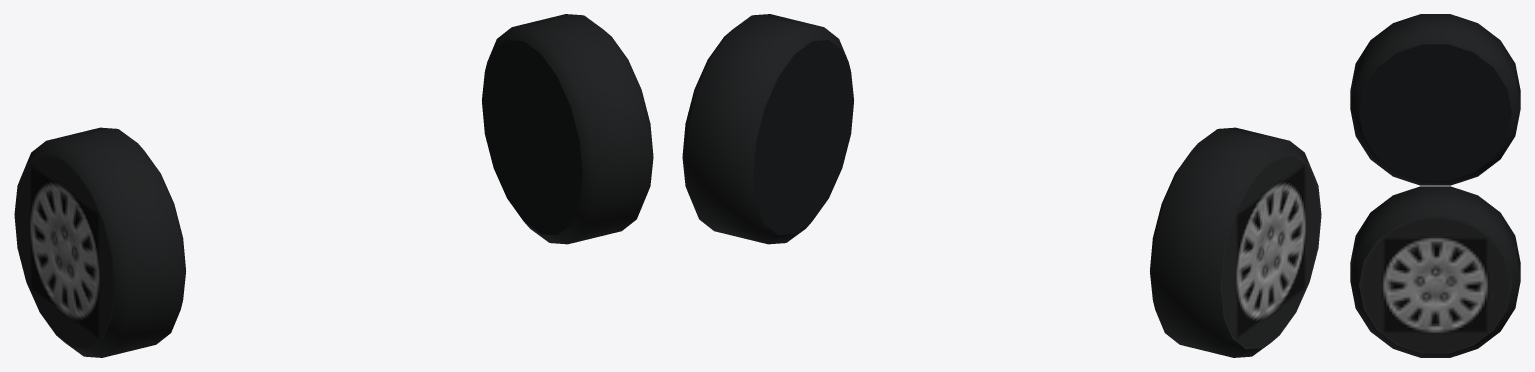
File: fullsize_police_wheels_f.obj
3 views of the same model, side by side, from view 1: azimuth 30°, elevation 25°; view 2: azimuth 150°, elevation 25°; view 3: azimuth 270°, elevation 25° (orthographic). The views are drawn at different scales.
Visible parts, largest first — view 1: fullsize_police_wheels_f; view 2: fullsize_police_wheels_f; view 3: fullsize_police_wheels_f.
Part boxes in pixels (left/top/right/bottom): fullsize_police_wheels_f: left=14, top=14, right=653, bottom=357; fullsize_police_wheels_f: left=682, top=14, right=1321, bottom=357; fullsize_police_wheels_f: left=1350, top=14, right=1520, bottom=357.
Size of the model in its own units: 1.87 by 0.6643 by 0.6746.
Materials: 1 (1 with a texture image).
